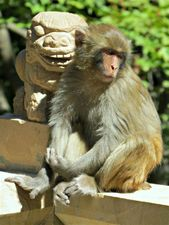monkey: (44, 15, 168, 202)
